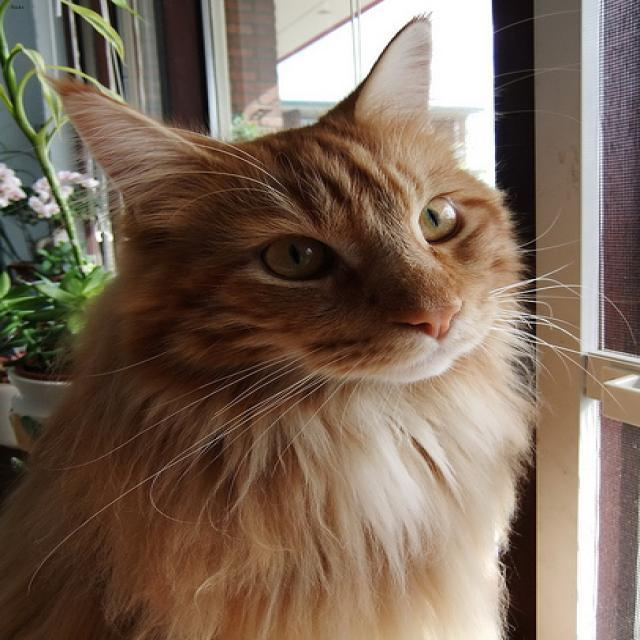Maine_Coon: (51, 16, 505, 382)
